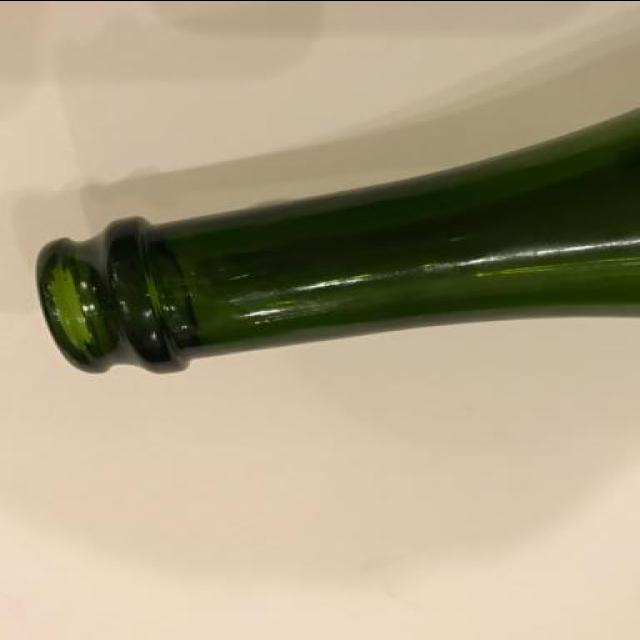litter: (31, 99, 636, 379)
